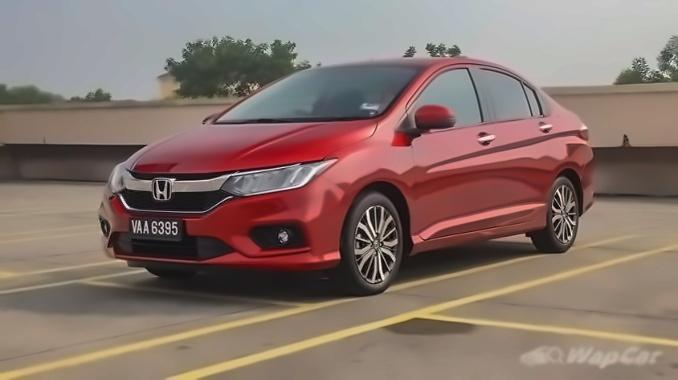Car hood: (120, 117, 379, 178)
Fender - -R-L-: (319, 114, 418, 257), (544, 110, 589, 225)
Front bumper: (94, 176, 353, 274)
Headlight - -L-: (217, 154, 342, 200)
Headlight - -R-: (102, 160, 135, 196)
Passenger-s door - -F-L-: (417, 60, 499, 244)
Passenger-s door - -R-L-: (481, 59, 554, 233)
Rear bumper: (578, 143, 599, 220)
Rear light - -L-: (569, 116, 593, 146)
Side bumper - -L-: (407, 206, 555, 261)
Side mirror - -L-: (409, 100, 461, 139)
Side mirror - -R-: (199, 110, 229, 131)
